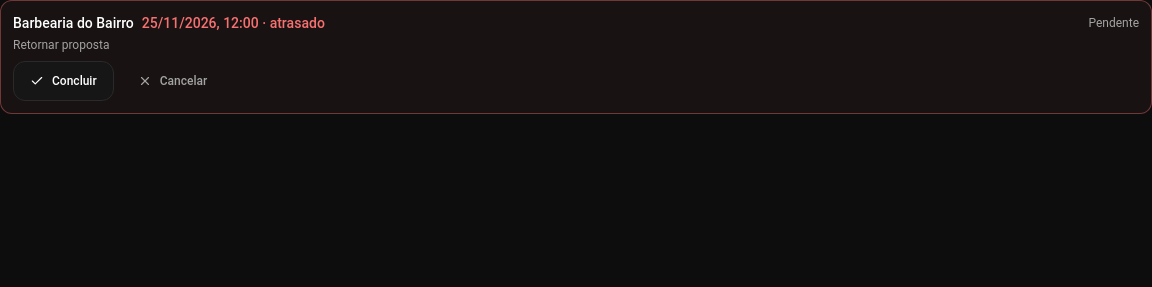
Test: FollowupItem conclusão › fecha o formulário de conclusão quando a RPC devolve null
Click the button with aria-label "Concluir follow-up": (63, 81) [13,61,114,101]
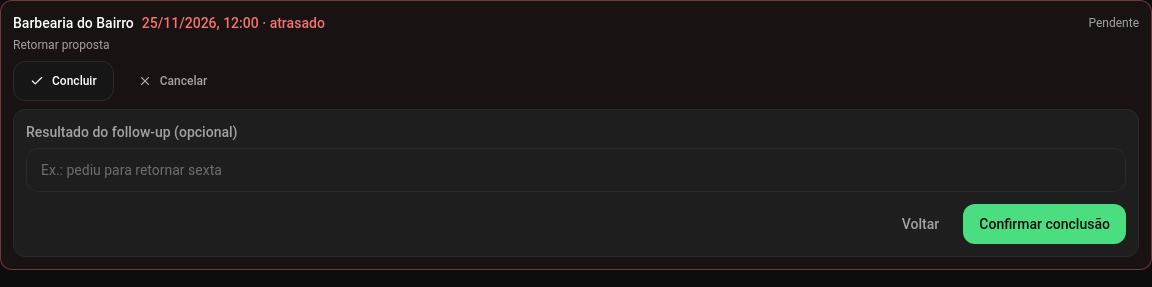
Check: the field labelled "Resultado do follow-up (opcional)" is shown, box [26,148,1126,192]
Click the button "Confirmar conclusão": (1045, 224) [963,204,1126,244]
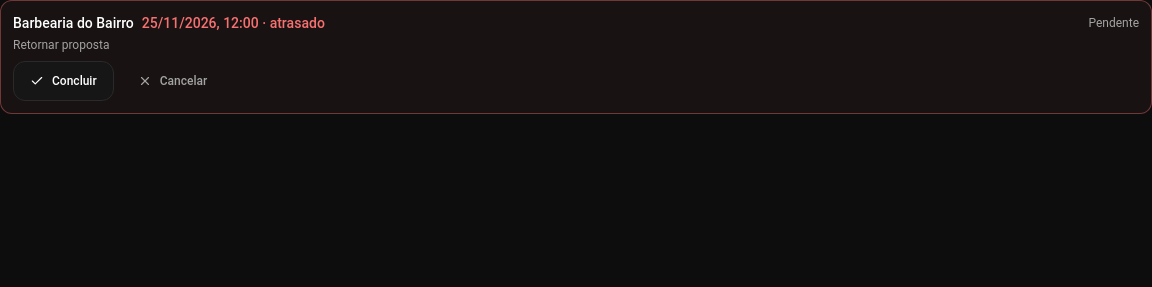
Check: the button with aria-label "Concluir follow-up" is shown, box [13,61,114,101]
Check: the label labelled "Resultado do follow-up (opcional)" is gone
